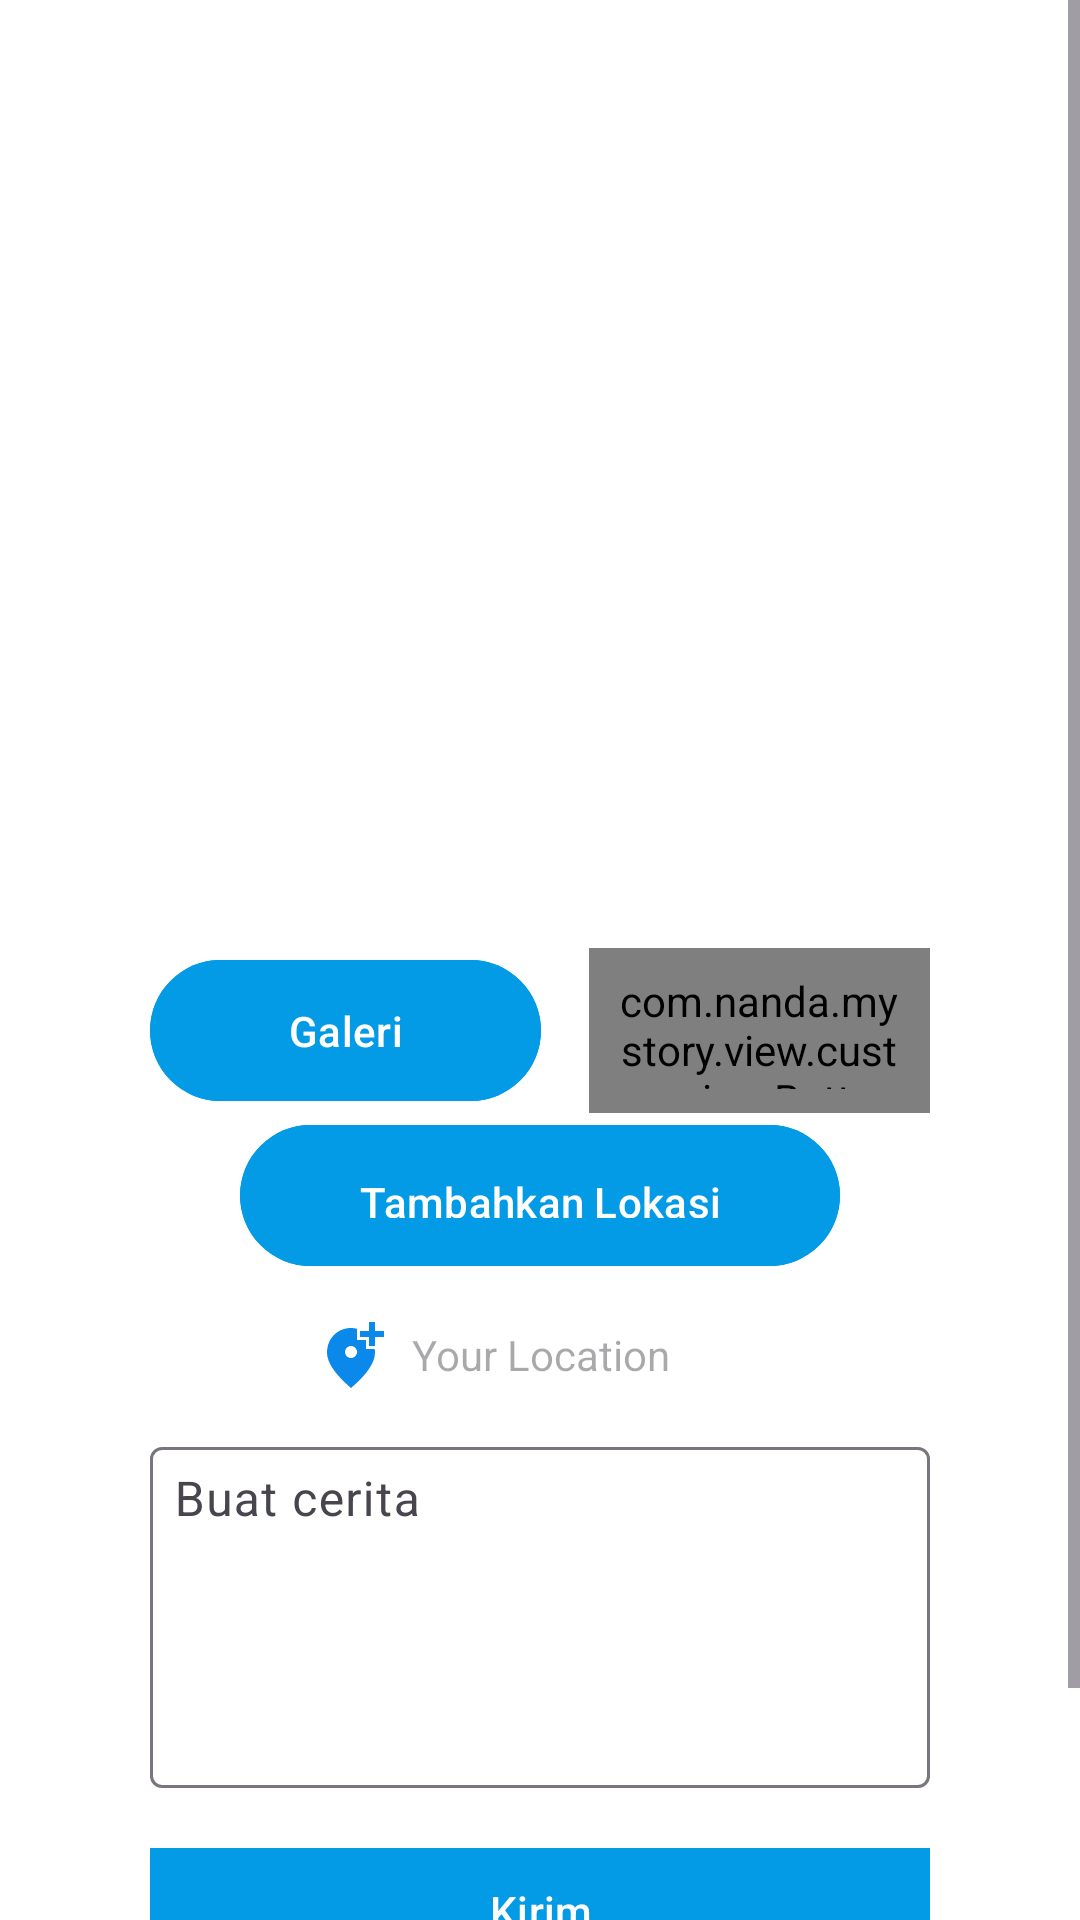

Icon bounding boxes for this 1080 × 1920 phone screenshot, format {"left": x1, "top": y1, "right": x2, "bottom": y2}:
add location: {"left": 327, "top": 1322, "right": 384, "bottom": 1388}
